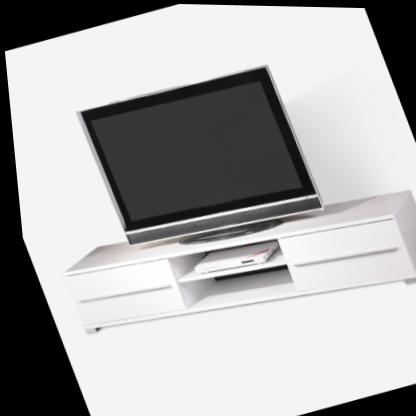TV stand: (56, 188, 416, 336)
